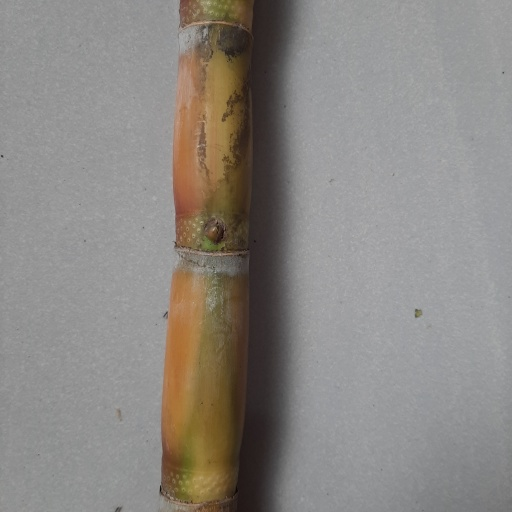Bud: (204, 219, 225, 246)
